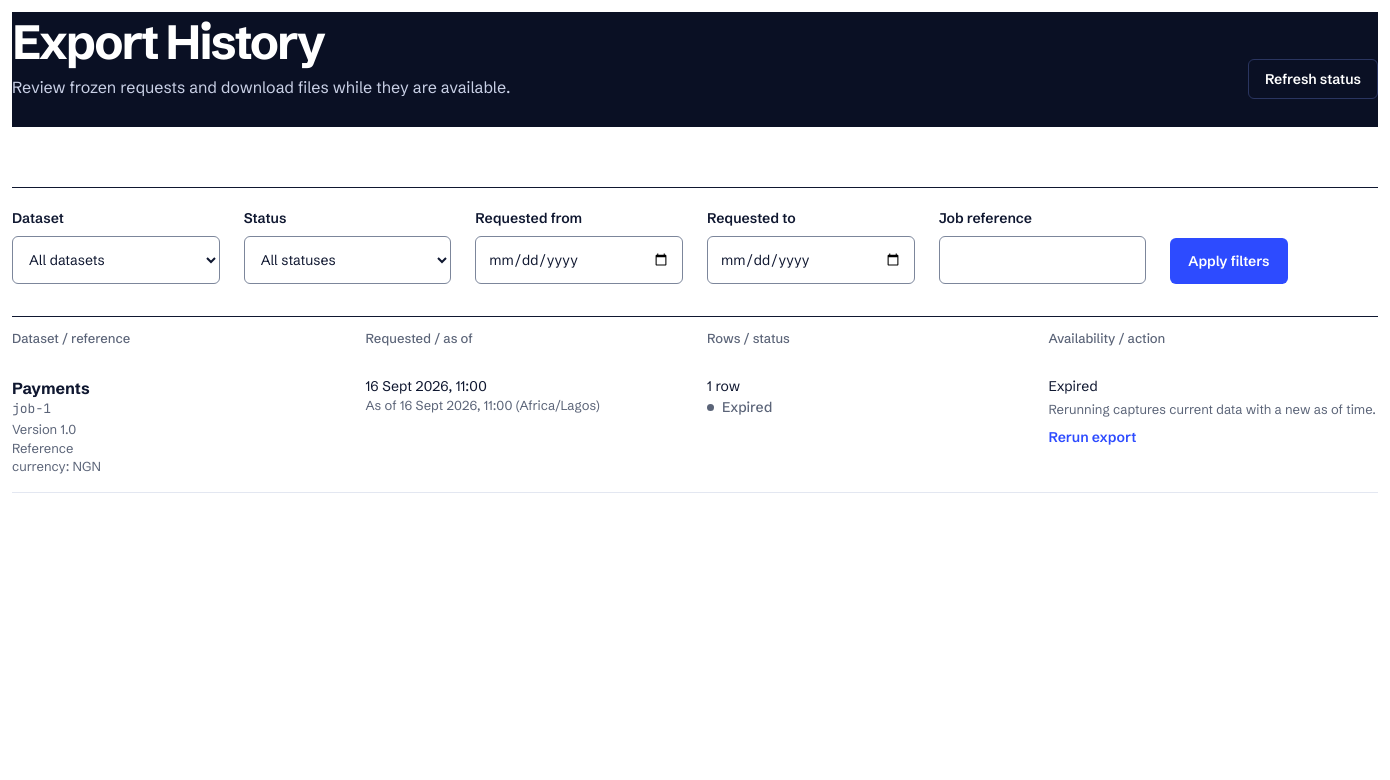
Test: Export History › explains new snapshot semantics before rerunning an expired job
The width and height of the screenshot is (1390, 780).
Click the button "Rerun export": (1092, 436) [1048,426,1136,446]
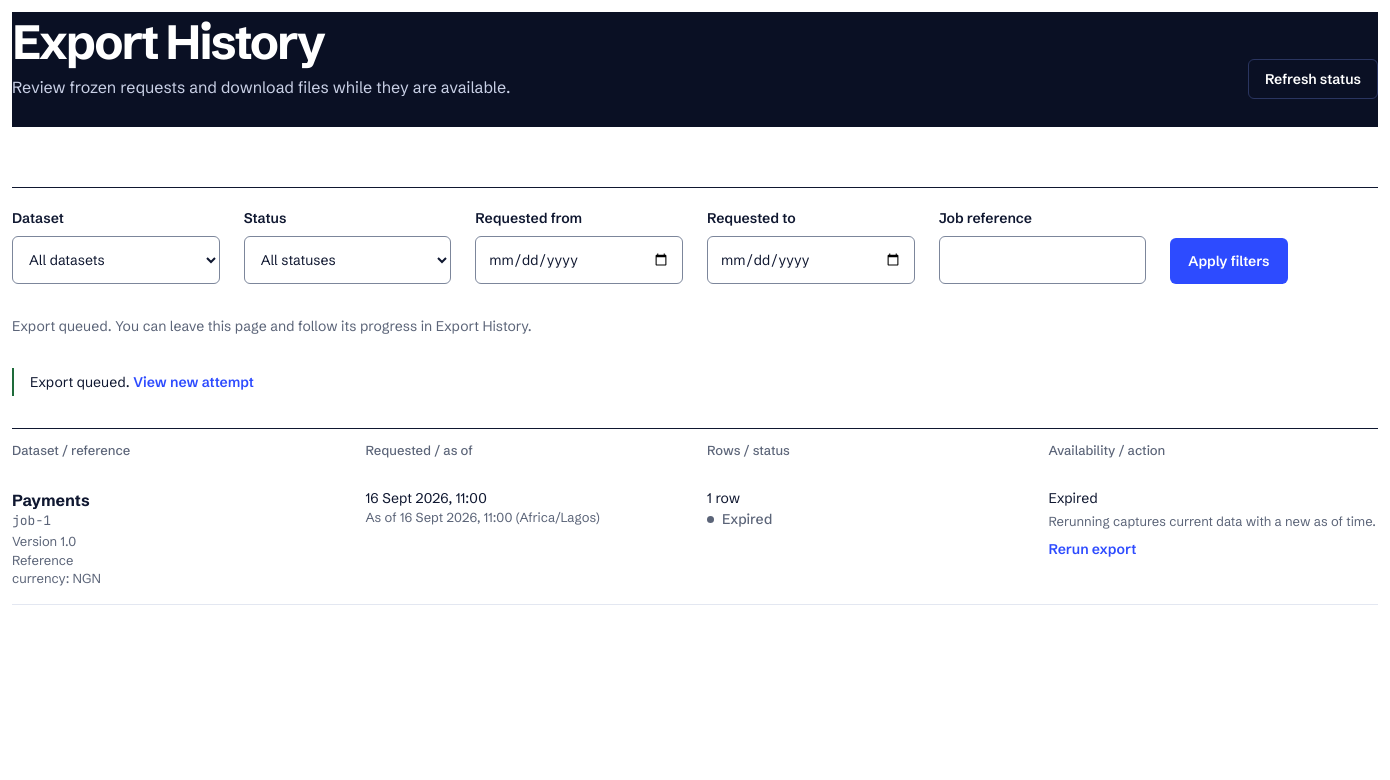
Check: the link "View new attempt" is shown, box [133,373,254,391]
